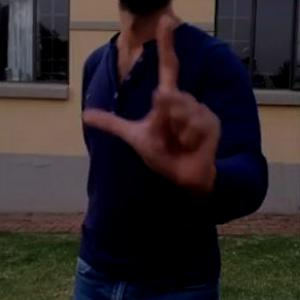land_hand: (80, 7, 231, 195)
